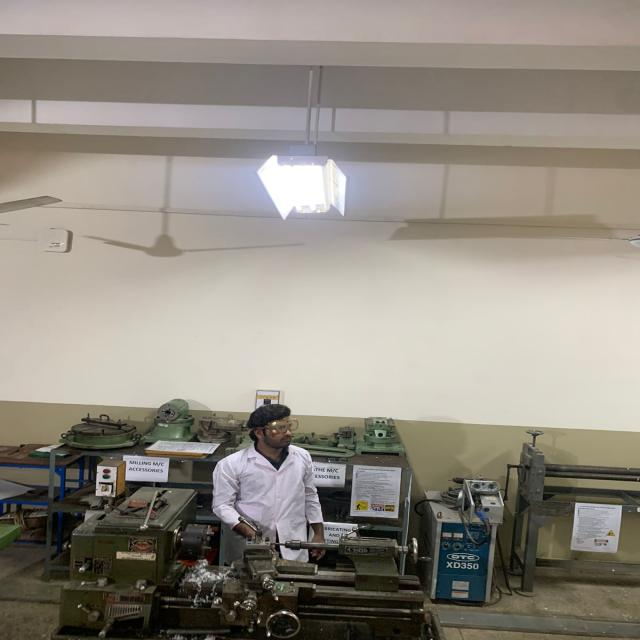googles: (267, 418, 300, 436)
labcoat: (207, 439, 325, 565)
